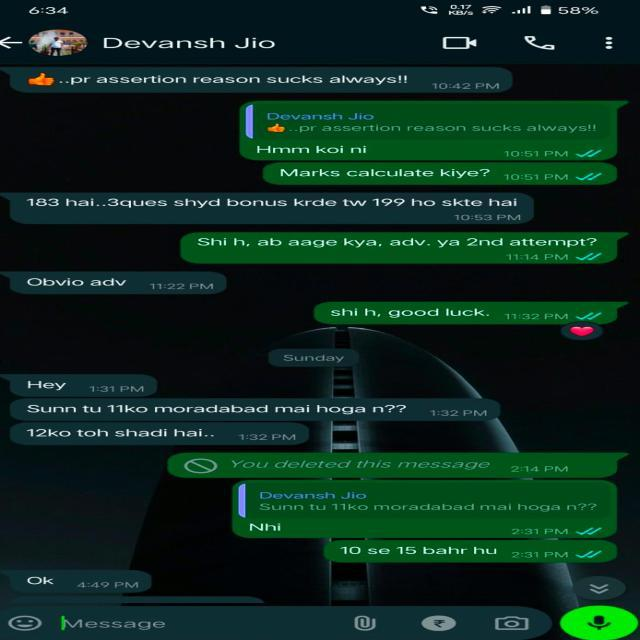scam: (0, 190, 537, 225), (2, 67, 514, 96), (8, 400, 507, 426), (11, 426, 316, 448), (7, 272, 229, 298), (6, 568, 156, 596), (10, 375, 161, 399)
